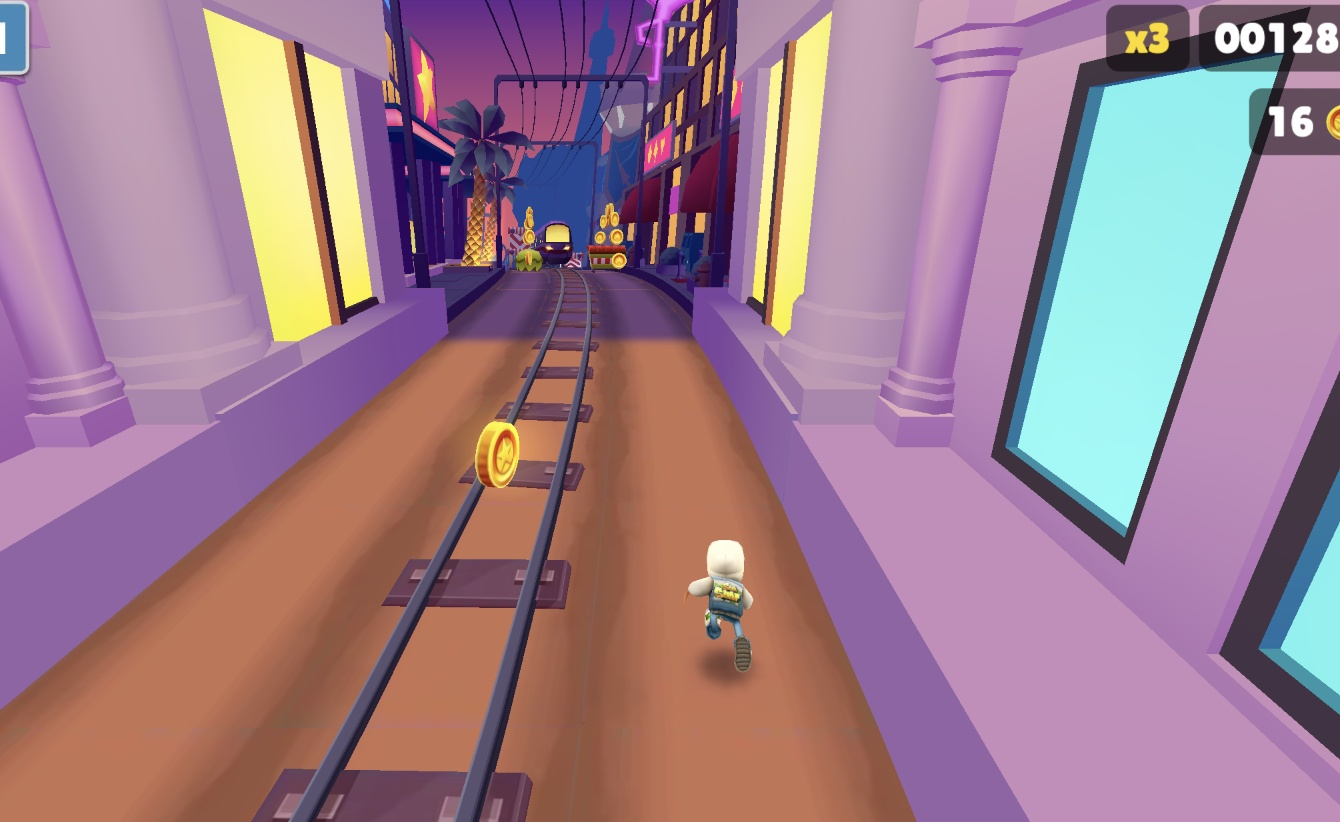bush: (513, 247, 542, 270)
ground_barrier: (586, 246, 624, 270), (566, 251, 580, 267)
overhead_barrier: (506, 226, 532, 258)
train: (536, 220, 573, 264)
